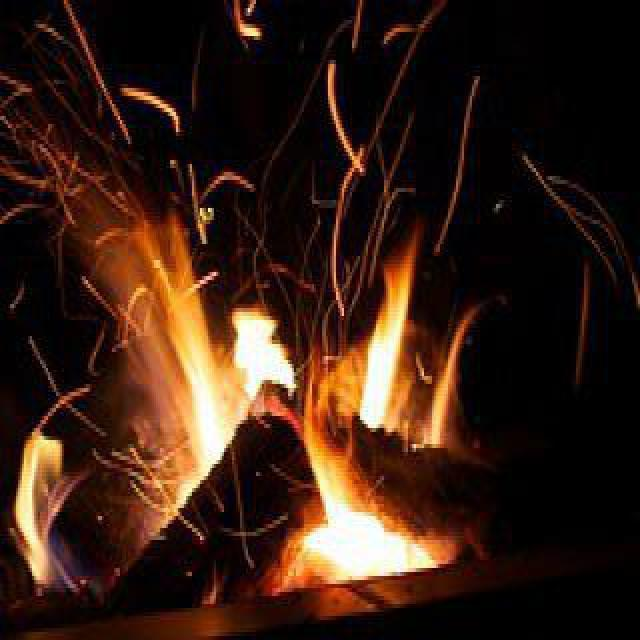Fire: (8, 218, 472, 624)
